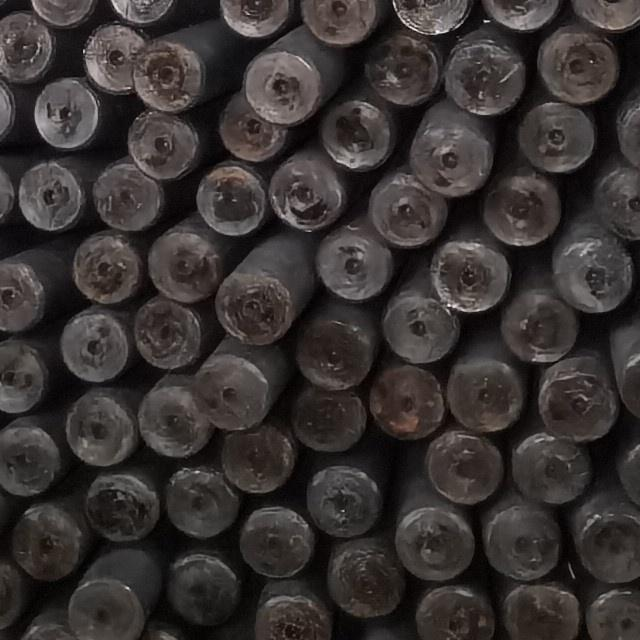tool: (243, 26, 343, 124), (411, 99, 494, 194), (444, 27, 526, 117), (536, 349, 616, 441), (564, 486, 638, 584), (481, 495, 564, 582), (445, 340, 524, 429), (475, 167, 563, 246), (351, 33, 444, 107), (150, 214, 226, 304), (266, 150, 346, 234), (536, 21, 618, 101), (500, 280, 580, 362), (0, 240, 69, 335), (310, 97, 394, 174), (421, 429, 506, 504), (182, 160, 264, 237), (367, 170, 448, 247), (313, 225, 393, 302), (192, 349, 272, 426), (327, 537, 404, 616), (509, 432, 593, 504), (396, 506, 474, 581), (431, 241, 511, 314), (370, 364, 445, 440), (384, 286, 461, 360), (516, 100, 595, 172), (216, 275, 295, 344), (222, 417, 296, 490), (168, 464, 241, 538), (67, 394, 141, 466), (6, 507, 84, 575), (93, 158, 165, 231), (130, 296, 200, 371), (59, 308, 129, 383), (308, 464, 382, 534), (164, 554, 238, 624), (240, 510, 315, 579), (80, 17, 149, 91), (0, 411, 63, 492), (35, 74, 103, 149), (17, 159, 86, 232), (297, 318, 371, 385), (296, 386, 370, 451), (84, 476, 158, 538), (141, 389, 211, 454), (128, 111, 198, 176), (588, 158, 640, 242), (74, 238, 144, 300), (0, 335, 55, 412), (412, 586, 490, 640), (500, 587, 579, 640), (135, 44, 199, 109), (72, 582, 142, 640), (0, 11, 55, 84), (221, 102, 284, 162), (300, 0, 385, 44), (253, 594, 329, 640), (386, 0, 476, 34), (584, 586, 640, 639), (218, 0, 298, 37), (482, 1, 571, 30), (610, 87, 640, 167), (0, 551, 25, 639), (572, 0, 640, 30), (32, 0, 100, 28), (103, 0, 176, 22), (0, 69, 18, 149), (618, 444, 640, 500), (621, 352, 640, 415)
tool_b: (550, 238, 640, 316)
